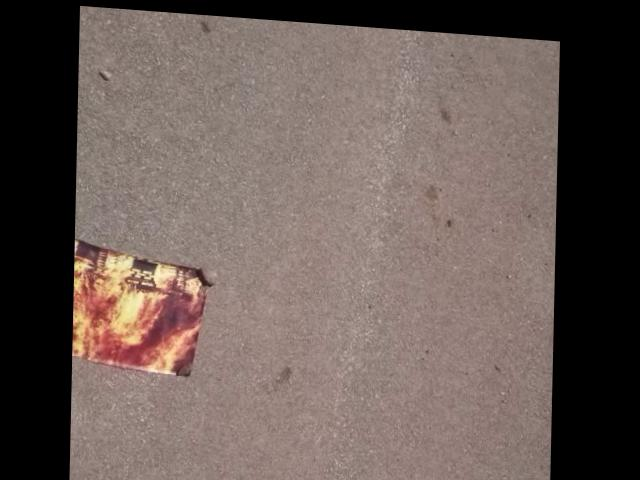fire-poster: (75, 234, 216, 378)
